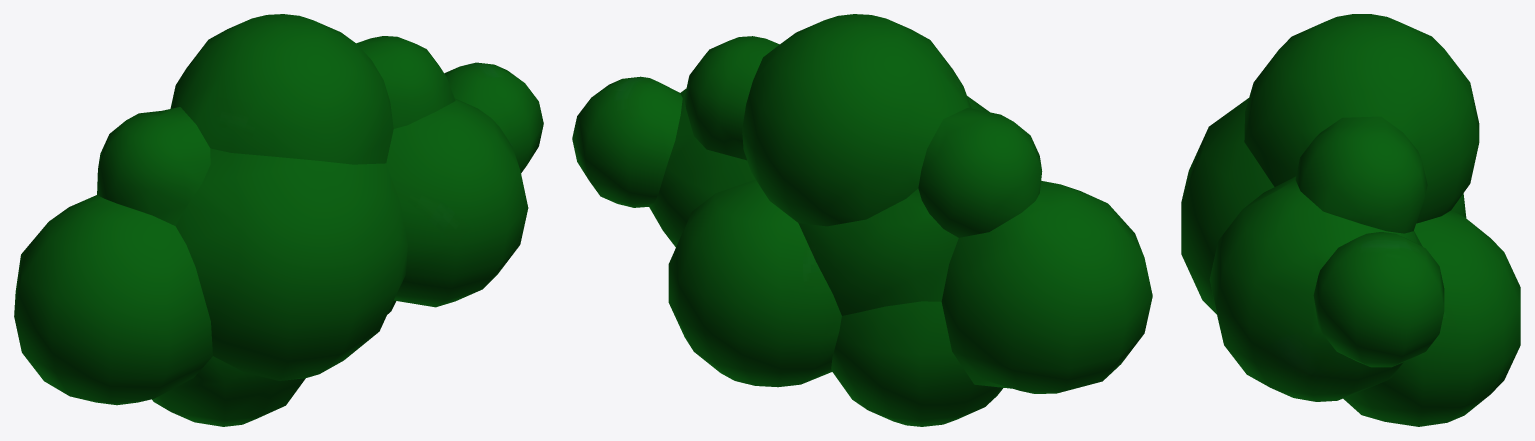
File: wool3.gltf
3 renders of one model, left to right at view 1: azimuth 30°, elevation 25°; view 2: azimuth 150°, elevation 25°; view 3: azimuth 270°, elevation 25°, orthographic. The views are drawn at different scales.
Visible parts, largest first — view 1: Object_2; view 2: Object_2; view 3: Object_2.
Boxes of the visible parts, box(x1,y1,x2,y2) form: Object_2: box(14, 14, 543, 426); Object_2: box(572, 14, 1152, 426); Object_2: box(1181, 14, 1520, 426).
Size of the model in its own units: 4.38 by 2.96 by 2.33.
Materials: 1 (1 with a texture image).
